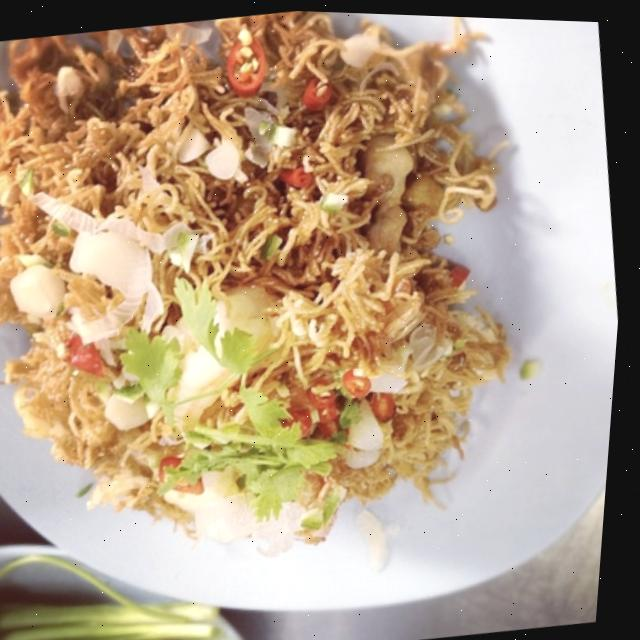面条主食: (0, 0, 568, 583)
